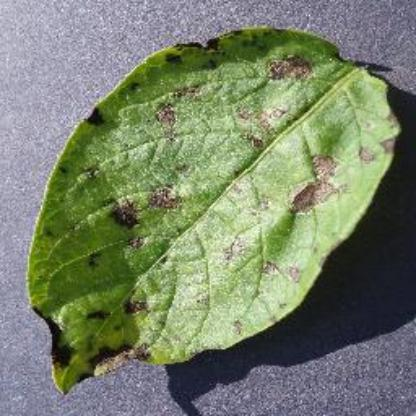Early-Blight: (27, 24, 405, 396)
